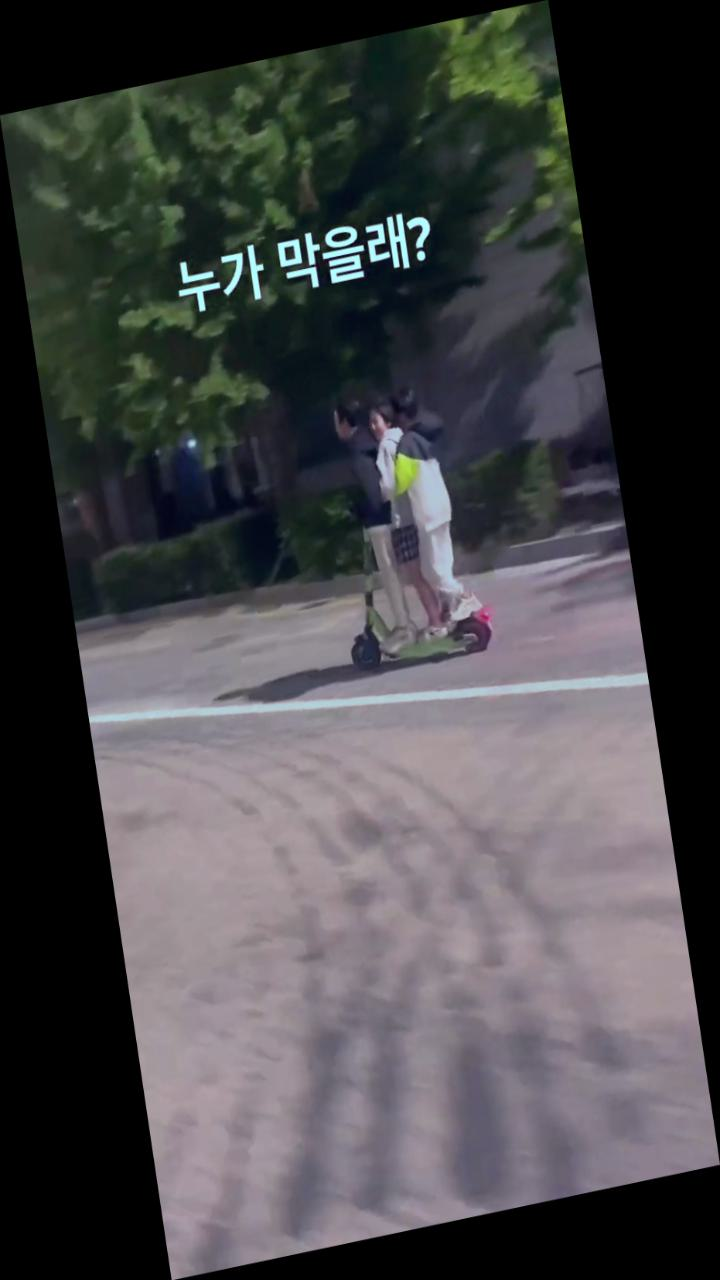multiple: (301, 364, 507, 688)
